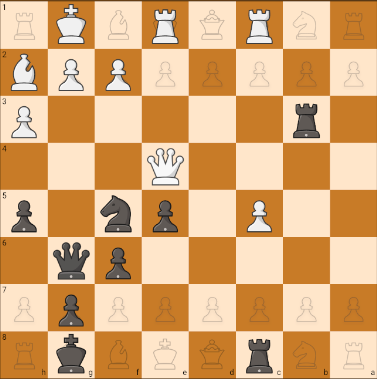bk: (51, 331, 92, 376)
bn: (95, 192, 138, 235)
bp: (3, 194, 46, 236), (52, 288, 91, 329), (147, 193, 183, 235), (101, 243, 136, 282)
bq: (50, 241, 93, 281)
br: (286, 98, 325, 142), (240, 336, 280, 377)
wk: (51, 1, 92, 47)
wp: (3, 99, 46, 142), (97, 52, 139, 93), (240, 193, 280, 235), (53, 55, 89, 93)
wq: (144, 143, 185, 188), (4, 49, 44, 95)
wr: (146, 1, 184, 48), (239, 5, 280, 43)
